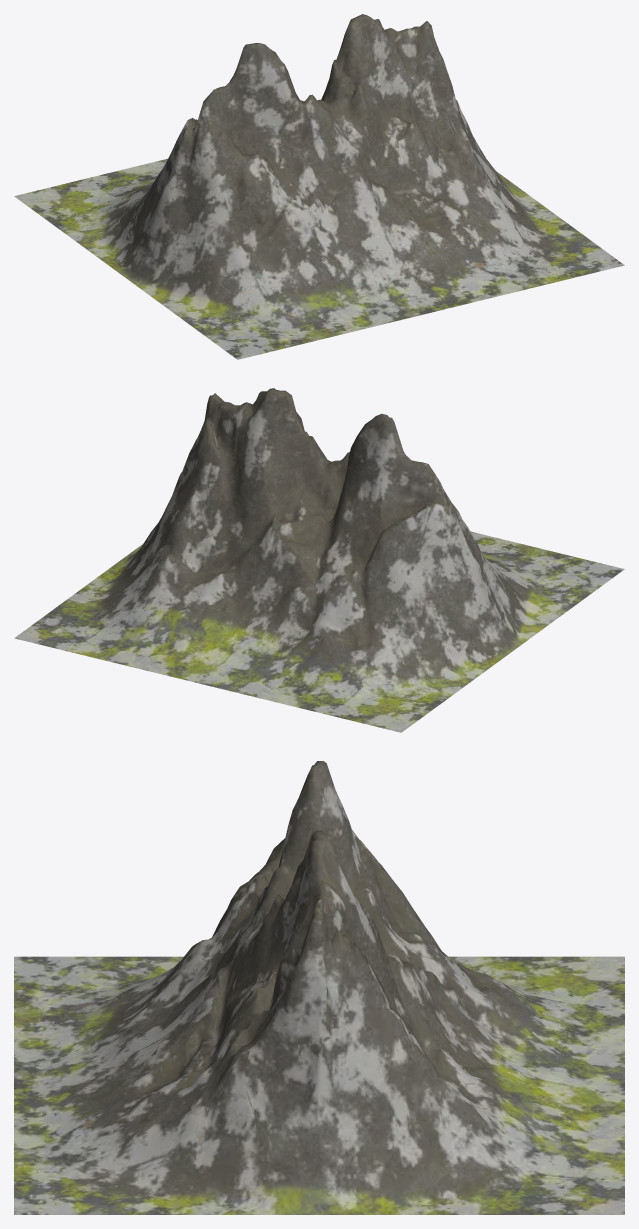
File: mountain.glb
3 renders of one model, top to bottom at view 1: azimuth 30°, elevation 25°; view 2: azimuth 150°, elevation 25°; view 3: azimuth 270°, elevation 25°, orthographic. The views are drawn at different scales.
Parts seen in each view (by area): view 1: Landscape.002; view 2: Landscape.002; view 3: Landscape.002.
Boxes of the visible parts, bbox=[...] form: Landscape.002: bbox=[14, 14, 624, 359]; Landscape.002: bbox=[14, 388, 624, 732]; Landscape.002: bbox=[14, 761, 624, 1214].
Size of the model in its own units: 1049 by 525 by 1049.
1 material, 1 textured.
